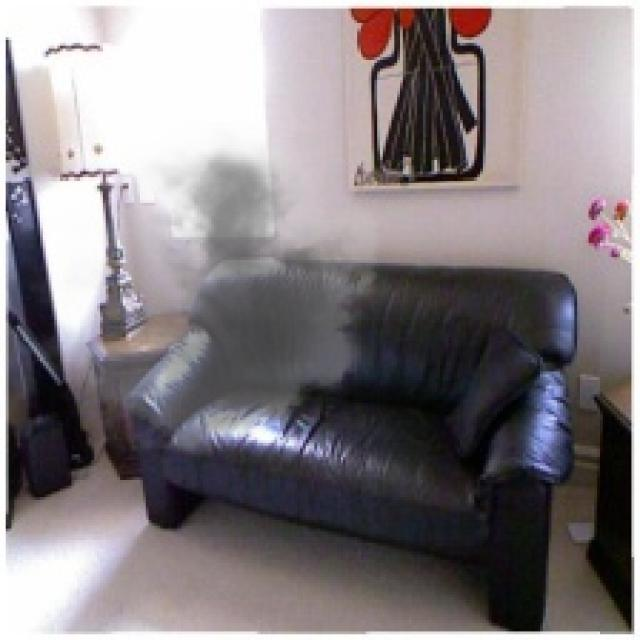smoke: (26, 123, 397, 471)
